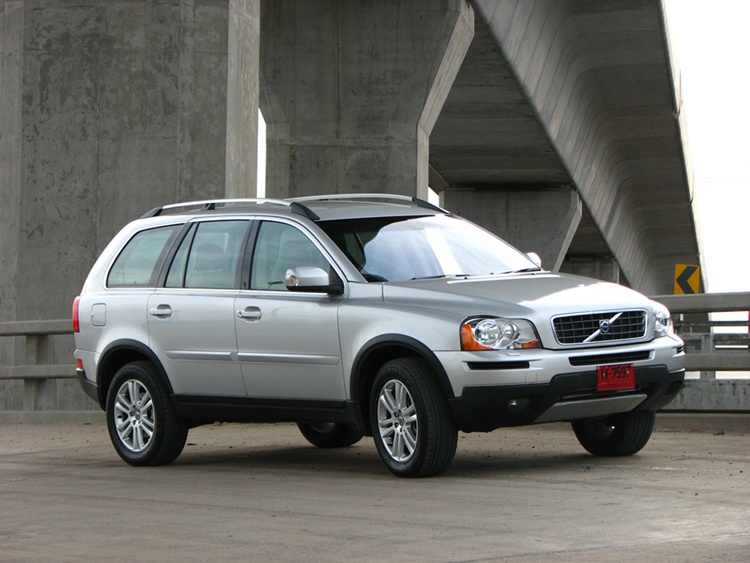pickup: (69, 193, 688, 477)
